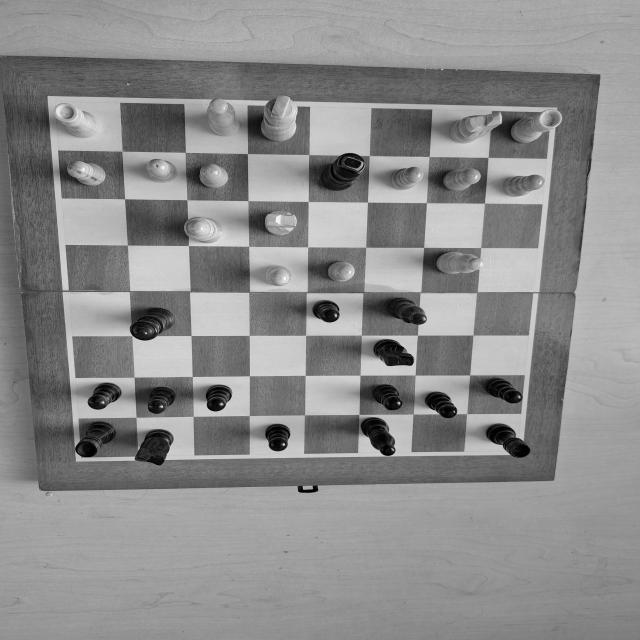chess-table-corners: (42, 92, 68, 111), (540, 104, 565, 120), (70, 450, 91, 466)
